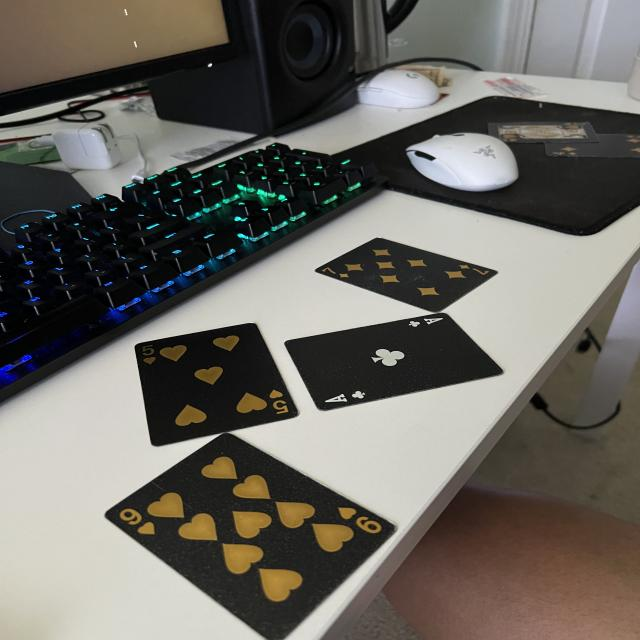5H: (267, 390, 293, 419), (140, 343, 160, 367)
7D: (316, 263, 353, 283), (458, 263, 494, 281)
9H: (109, 508, 164, 540), (337, 504, 388, 536)
AC: (322, 389, 370, 407), (404, 316, 450, 328)
